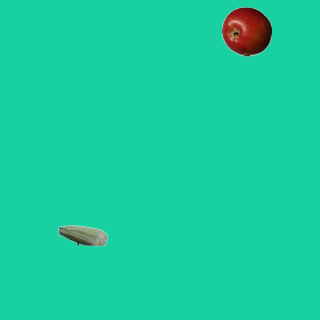Apple Braeburn: (221, 6, 271, 56)
Corn Husk: (57, 210, 107, 260)
